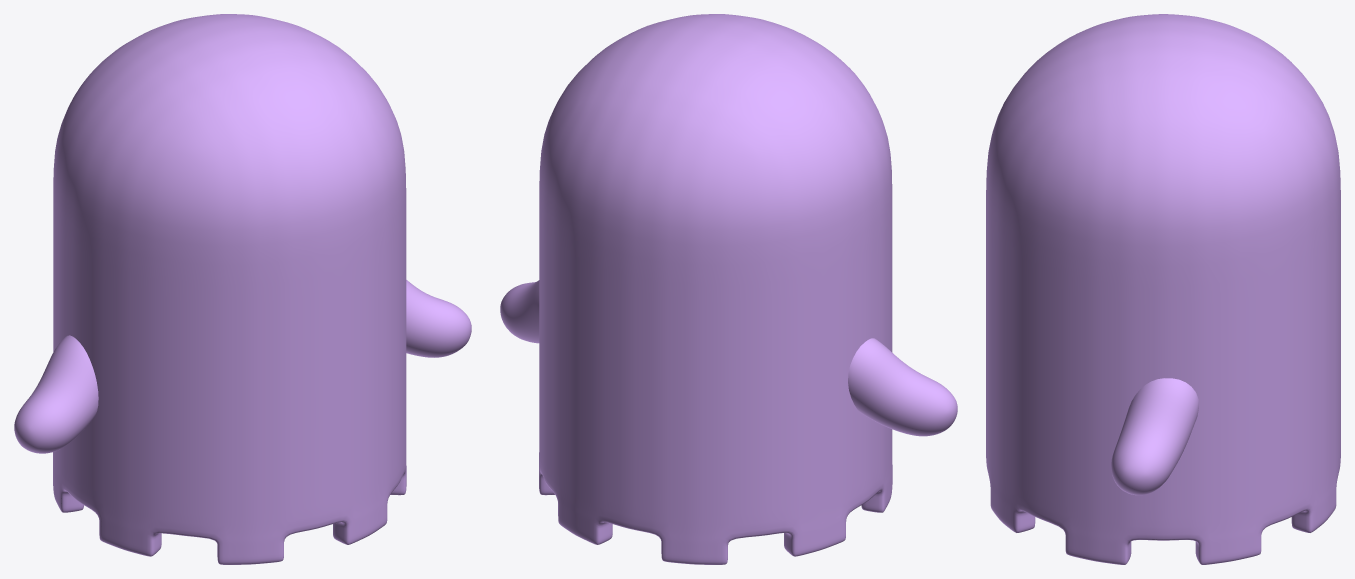
Rendered from Mannequin.fbx.
The picture shows the model from 3 angles, left to right: view 1: azimuth 30°, elevation 25°; view 2: azimuth 150°, elevation 25°; view 3: azimuth 270°, elevation 25°; orthographic projection.
Parts seen in each view (by area): view 1: Mannequin_LOD0; view 2: Mannequin_LOD0; view 3: Mannequin_LOD0.
Part boxes in pixels (bbox=[...]): Mannequin_LOD0: bbox=[14, 14, 471, 564]; Mannequin_LOD0: bbox=[500, 14, 957, 564]; Mannequin_LOD0: bbox=[986, 14, 1340, 564].
Size of what is drawn, in the model's own units: 592 by 576 by 402.
